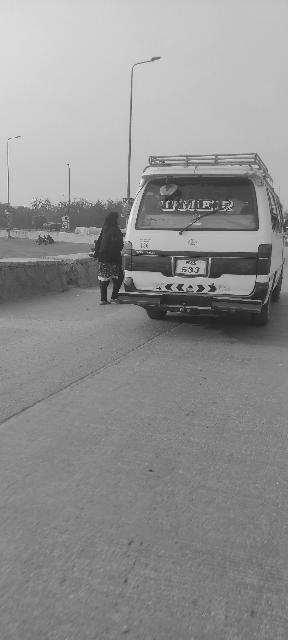Number: (181, 259, 200, 273)
